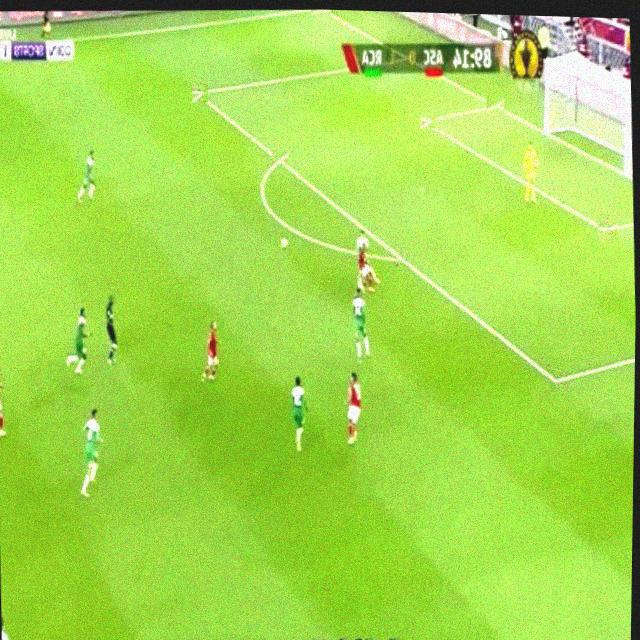bigarea_bottom_inner: (545, 363, 567, 393)
bigarea_top_inner: (191, 81, 208, 103)
bottom_arc_area_intersection: (393, 247, 411, 267)
corner: (311, 9, 330, 16)
smallarea_bottom_inner: (597, 213, 618, 243)
smallarea_top_inner: (418, 110, 435, 128)
smallarea_top_outter: (485, 93, 504, 113)
top_arc_area_intersection: (271, 148, 288, 168)
